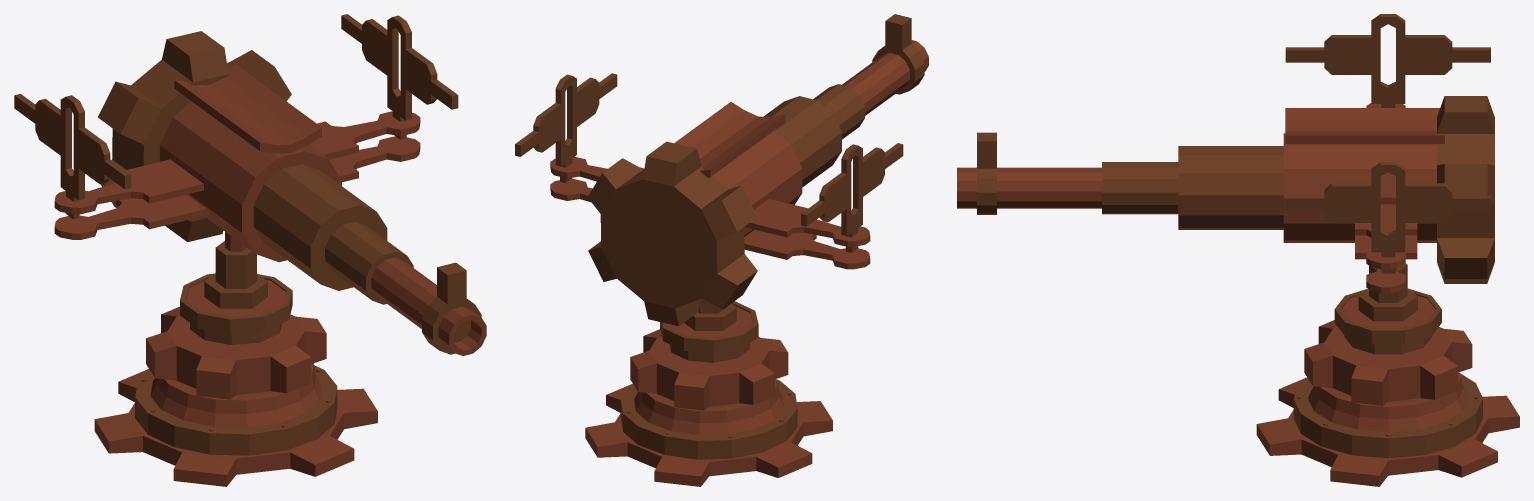
The model's file is Gun_3.glb.
3 views of the same model, side by side, from view 1: azimuth 30°, elevation 25°; view 2: azimuth 150°, elevation 25°; view 3: azimuth 270°, elevation 25° (orthographic). The views are drawn at different scales.
Visible parts, largest first — view 1: Gun_3_Gun, Gun_3_Base, Gun_3_Mid; view 2: Gun_3_Gun, Gun_3_Base, Gun_3_Mid; view 3: Gun_3_Gun, Gun_3_Base, Gun_3_Mid.
Part boxes in pixels (x1,y1,x2,y2): Gun_3_Gun: (14,14,486,355); Gun_3_Base: (94,306,377,486); Gun_3_Mid: (180,232,292,344); Gun_3_Gun: (515,14,928,326); Gun_3_Base: (585,329,832,486); Gun_3_Mid: (660,298,758,362); Gun_3_Gun: (957,14,1494,293); Gun_3_Base: (1256,320,1519,486); Gun_3_Mid: (1334,263,1441,354).
Size of the model in its own units: 2.02 by 1.99 by 2.94.
